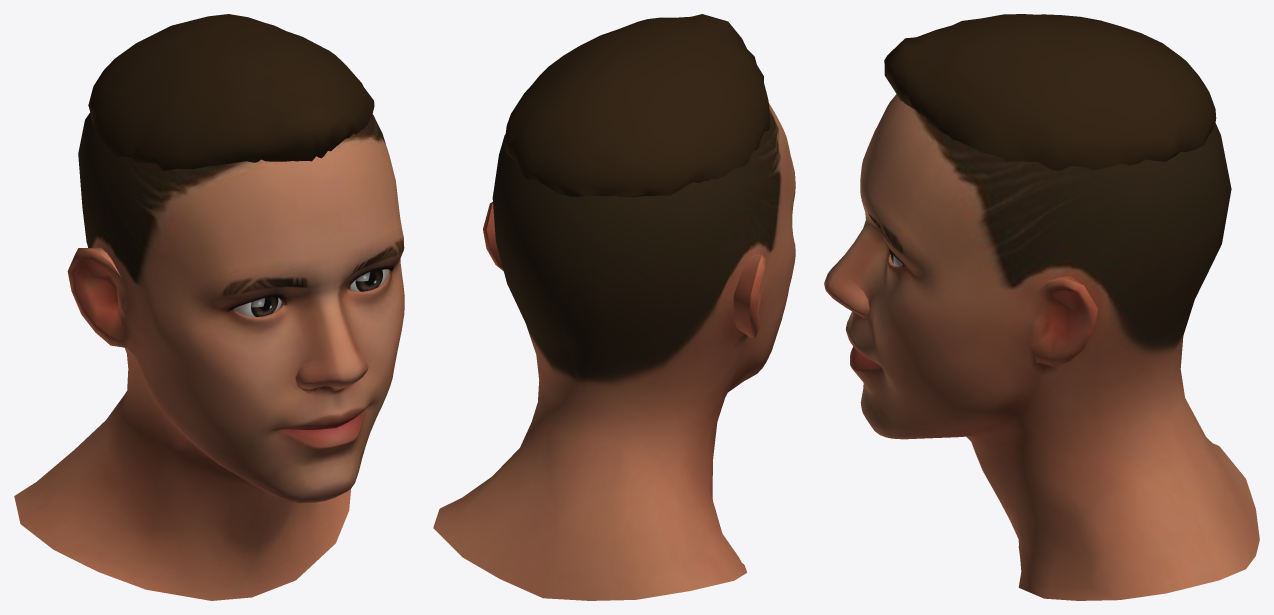
The picture shows the model from 3 angles, left to right: view 1: azimuth 30°, elevation 25°; view 2: azimuth 150°, elevation 25°; view 3: azimuth 270°, elevation 25°; orthographic projection. The views are drawn at different scales.
Visible parts, largest first — view 1: Wolf3D_Head, Wolf3D_Hair, EyeRight, EyeLeft; view 2: Wolf3D_Head, Wolf3D_Hair; view 3: Wolf3D_Head, Wolf3D_Hair.
Part boxes in pixels (<box>): Wolf3D_Head: <box>14,112,404,600</box>; Wolf3D_Hair: <box>88,14,374,170</box>; EyeRight: <box>233,296,281,316</box>; EyeLeft: <box>350,269,389,291</box>; Wolf3D_Head: <box>433,103,795,600</box>; Wolf3D_Hair: <box>504,14,769,197</box>; Wolf3D_Head: <box>824,94,1259,600</box>; Wolf3D_Hair: <box>884,14,1216,170</box>.
Bounding box in the file's own units: 0.1919 × 0.3183 × 0.2298.
Materials: 4 (4 with a texture image).
